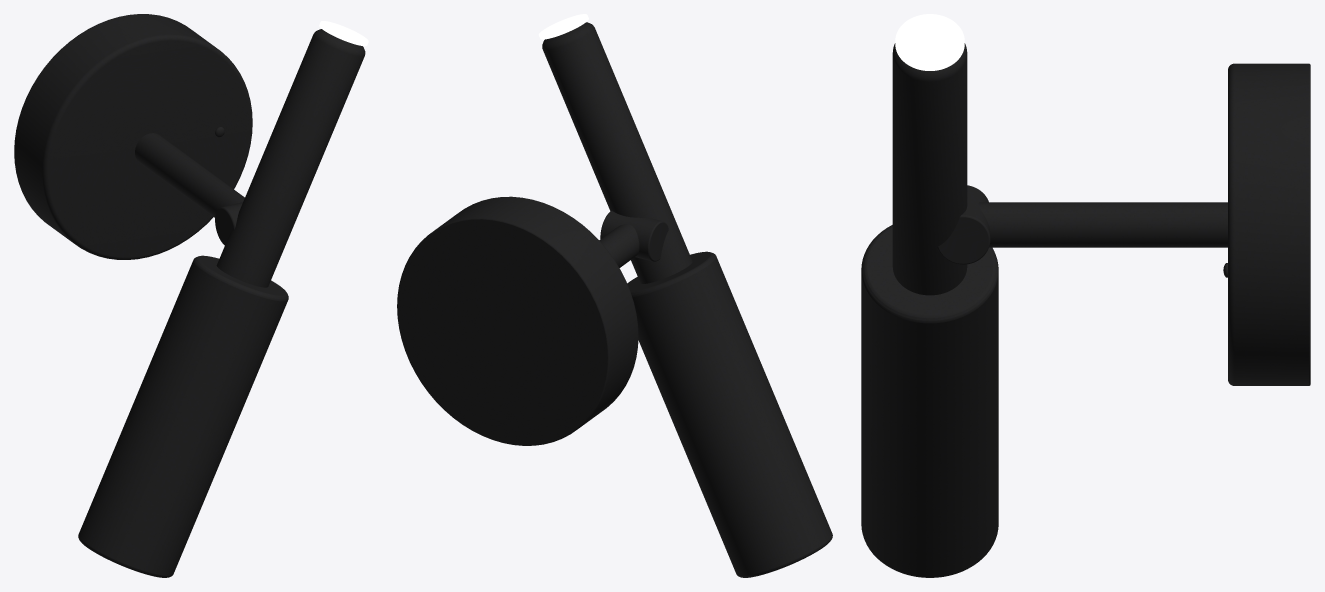
File: adjustable-tube-led-wall-spotlight.glb
3 renders of one model, left to right at view 1: azimuth 30°, elevation 25°; view 2: azimuth 150°, elevation 25°; view 3: azimuth 270°, elevation 25°, orthographic. The views are drawn at different scales.
Parts seen in each view (by area): view 1: Backplate, Head, Rod, Arm, Knuckle, LED; view 2: Backplate, Head, Rod, Knuckle, Arm, LED; view 3: Head, Backplate, Rod, Arm, LED, Knuckle.
Part boxes in pixels (<box>): Backplate: <box>14,14,252,259</box>; Head: <box>78,255,288,577</box>; Rod: <box>216,29,365,287</box>; Arm: <box>135,133,244,217</box>; Knuckle: <box>215,202,242,245</box>; LED: <box>319,21,368,46</box>; Backplate: <box>397,196,638,445</box>; Head: <box>627,251,832,577</box>; Rod: <box>542,22,692,283</box>; Knuckle: <box>600,210,668,261</box>; Arm: <box>599,224,639,267</box>; LED: <box>538,14,588,39</box>; Head: <box>861,225,998,577</box>; Backplate: <box>1228,63,1310,385</box>; Rod: <box>892,43,967,295</box>; Arm: <box>978,202,1227,247</box>; LED: <box>895,14,964,70</box>; Knuckle: <box>937,185,990,264</box>.
Size of the model in its own units: 0.1325 by 0.2264 by 0.1379.
5 materials, 4 textured.
